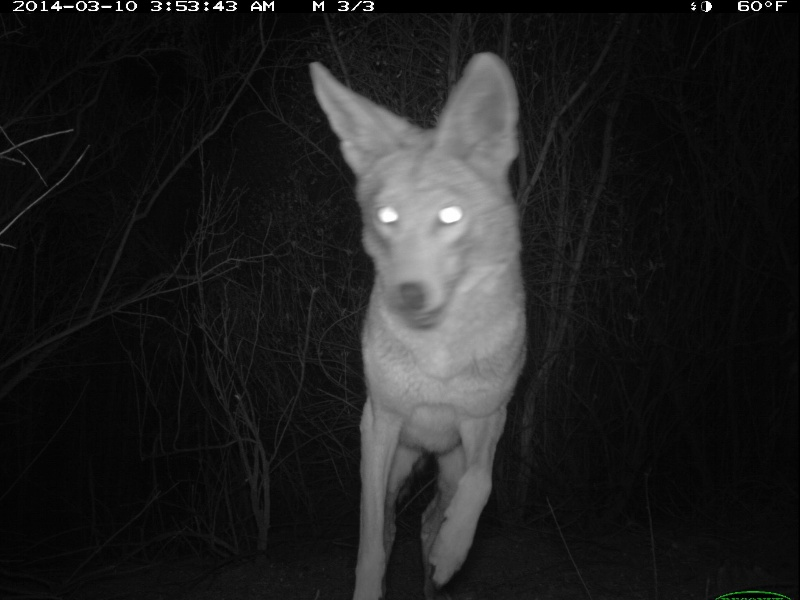coyote: (296, 48, 532, 600)
